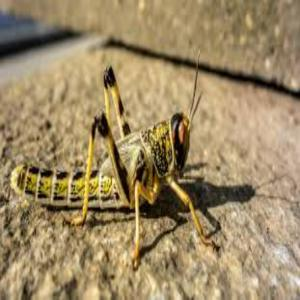locust: (17, 91, 212, 238)
